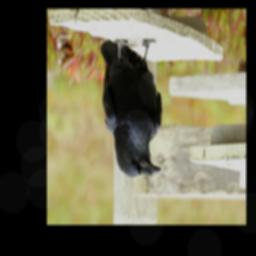Crow: (100, 38, 163, 178)
